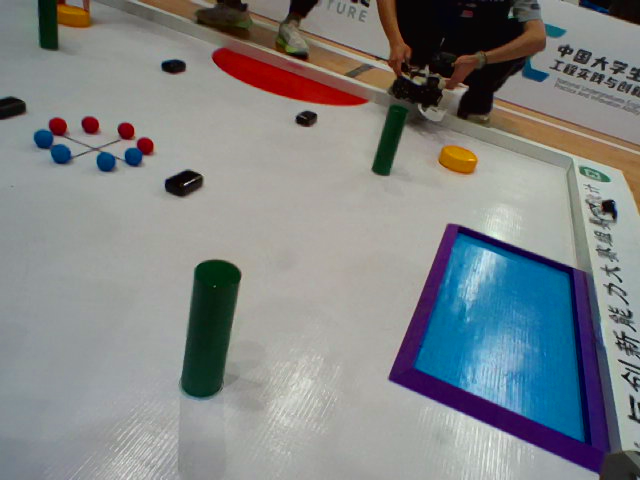black: (165, 167, 203, 201), (1, 96, 30, 123), (293, 108, 318, 126), (160, 58, 182, 73)
blue: (34, 127, 55, 149), (53, 142, 73, 162), (127, 147, 147, 166), (97, 152, 116, 171)
red: (115, 120, 137, 141), (137, 134, 156, 155), (49, 118, 67, 137), (82, 119, 99, 133)
yellow: (391, 215, 622, 474), (434, 142, 480, 174), (47, 3, 88, 28)
zhuzi: (177, 256, 240, 399), (369, 103, 409, 179), (32, 1, 64, 47)
